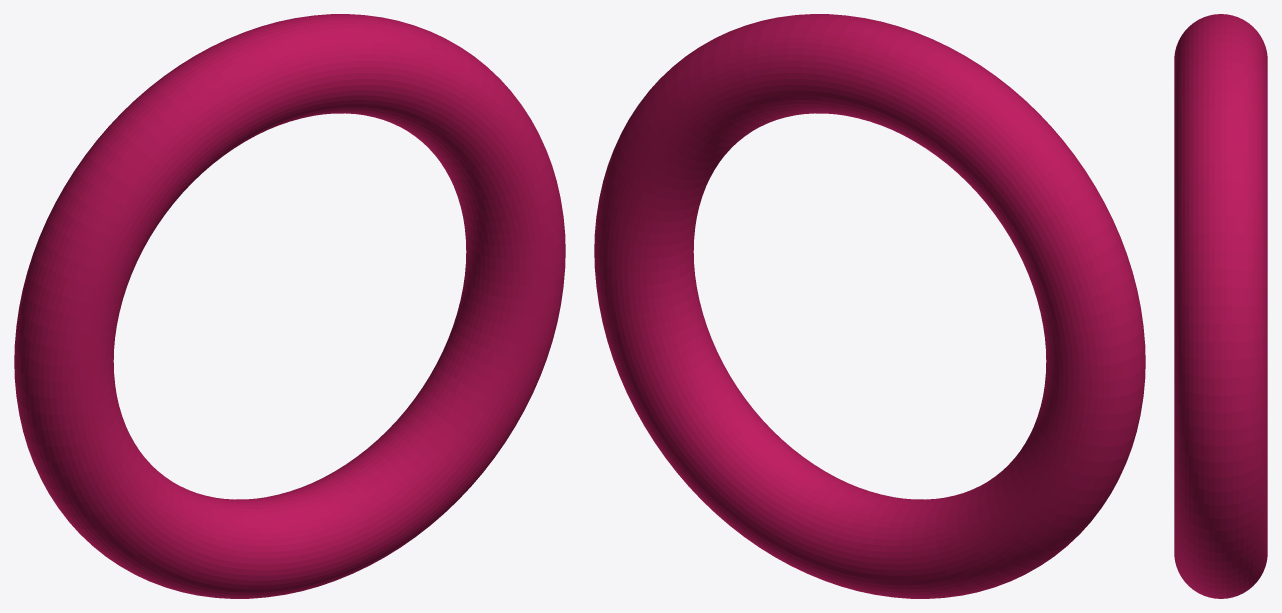
3 renders of one model, left to right at view 1: azimuth 30°, elevation 25°; view 2: azimuth 150°, elevation 25°; view 3: azimuth 270°, elevation 25°, orthographic. The views are drawn at different scales.
Visible parts, largest first — view 1: world; view 2: world; view 3: world.
Boxes of the visible parts, bbox=[...] form: world: bbox=[14, 14, 565, 598]; world: bbox=[594, 14, 1145, 598]; world: bbox=[1174, 14, 1267, 598].
Size of the model in its own units: 34.13 by 34.13 by 5.46.
